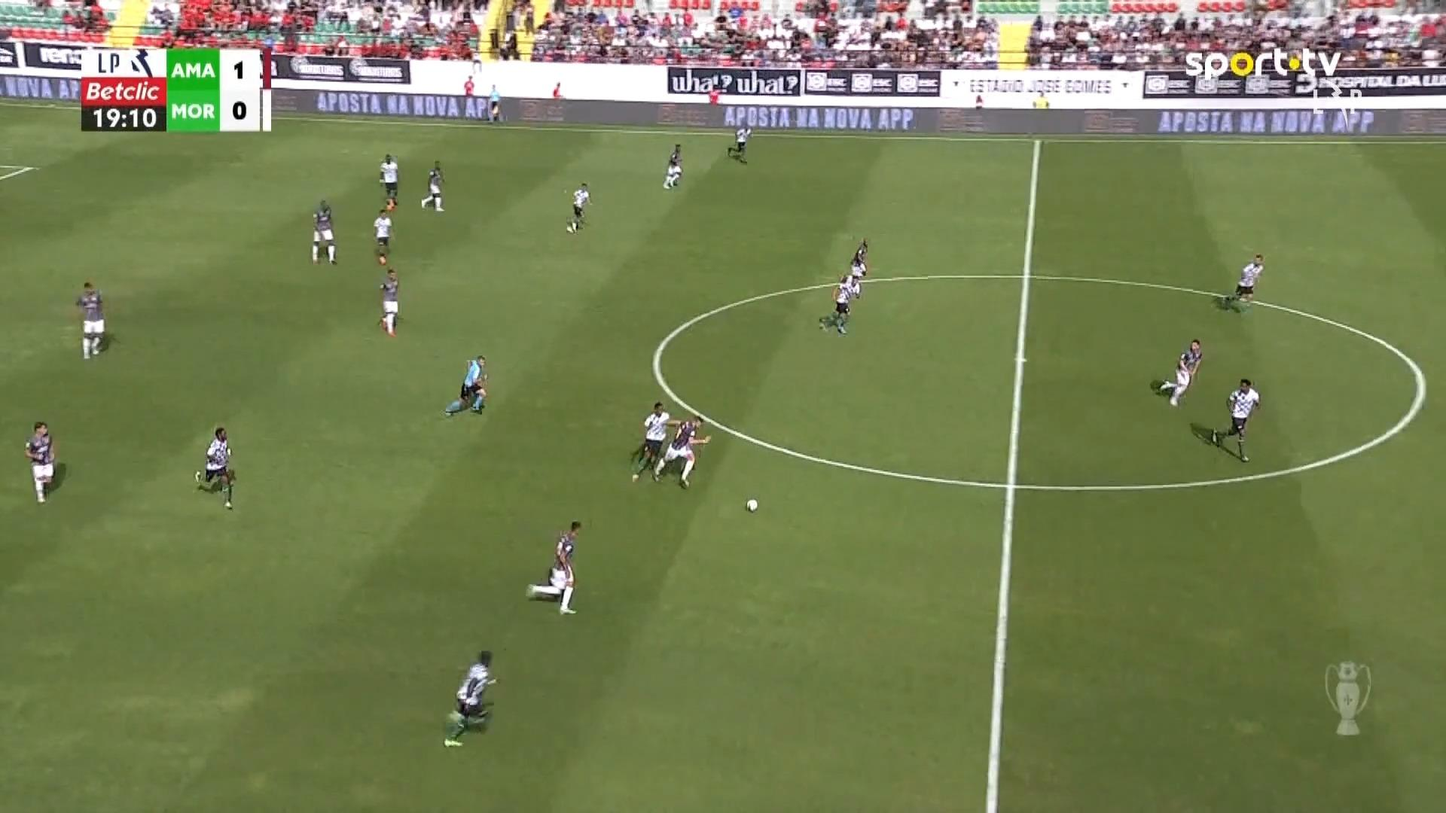ball: (745, 498, 760, 514)
player: (441, 649, 500, 751), (524, 520, 584, 619), (654, 415, 715, 493), (1212, 378, 1265, 466), (629, 402, 672, 484), (195, 426, 236, 508), (22, 425, 63, 506), (1158, 339, 1206, 408), (1220, 253, 1267, 312), (74, 280, 107, 362), (819, 275, 862, 332), (378, 269, 402, 338), (311, 199, 336, 265), (565, 184, 595, 234), (421, 159, 447, 213), (378, 152, 401, 205), (372, 209, 394, 264), (662, 143, 685, 190), (847, 237, 871, 282), (726, 123, 751, 165), (487, 84, 502, 126)
referee: (442, 353, 491, 419)
